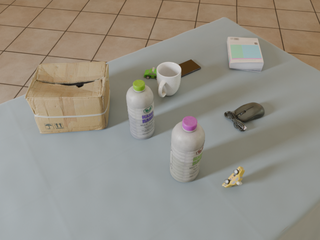book: (227, 37, 263, 72)
bottle: (170, 116, 205, 182), (126, 80, 154, 139)
box: (25, 62, 110, 134)
cup: (156, 62, 182, 97)
mouse: (224, 103, 264, 131)
phone: (179, 60, 201, 77)
toy_car: (222, 167, 245, 187), (144, 67, 157, 79)
